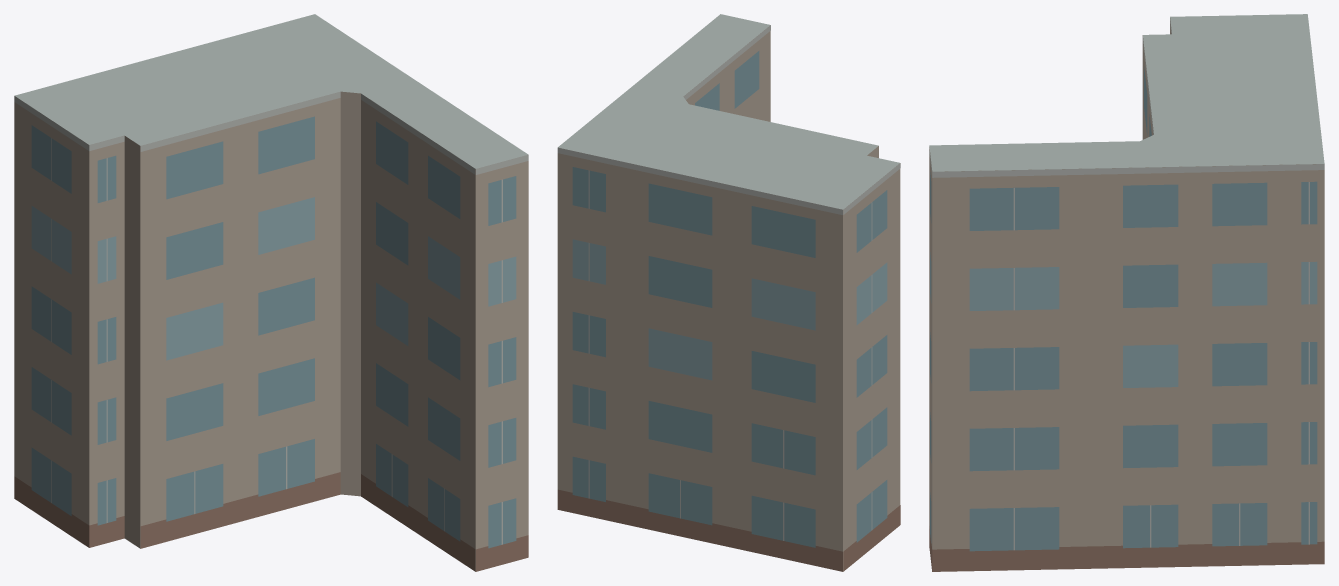
File: survey-upis-32937478.glb
3 renders of one model, left to right at view 1: azimuth 30°, elevation 25°; view 2: azimuth 150°, elevation 25°; view 3: azimuth 270°, elevation 25°, orthographic. The views are drawn at different scales.
Parts seen in each view (by area): view 1: survey-upis-32937478.tmp; view 2: survey-upis-32937478.tmp; view 3: survey-upis-32937478.tmp.
Boxes of the visible parts, box(x1,y1,x2,y2) form: survey-upis-32937478.tmp: box(14, 14, 528, 571); survey-upis-32937478.tmp: box(557, 14, 900, 571); survey-upis-32937478.tmp: box(929, 14, 1324, 571).
Bounding box in the file's own units: 13.45 × 15.9 × 14.24.
